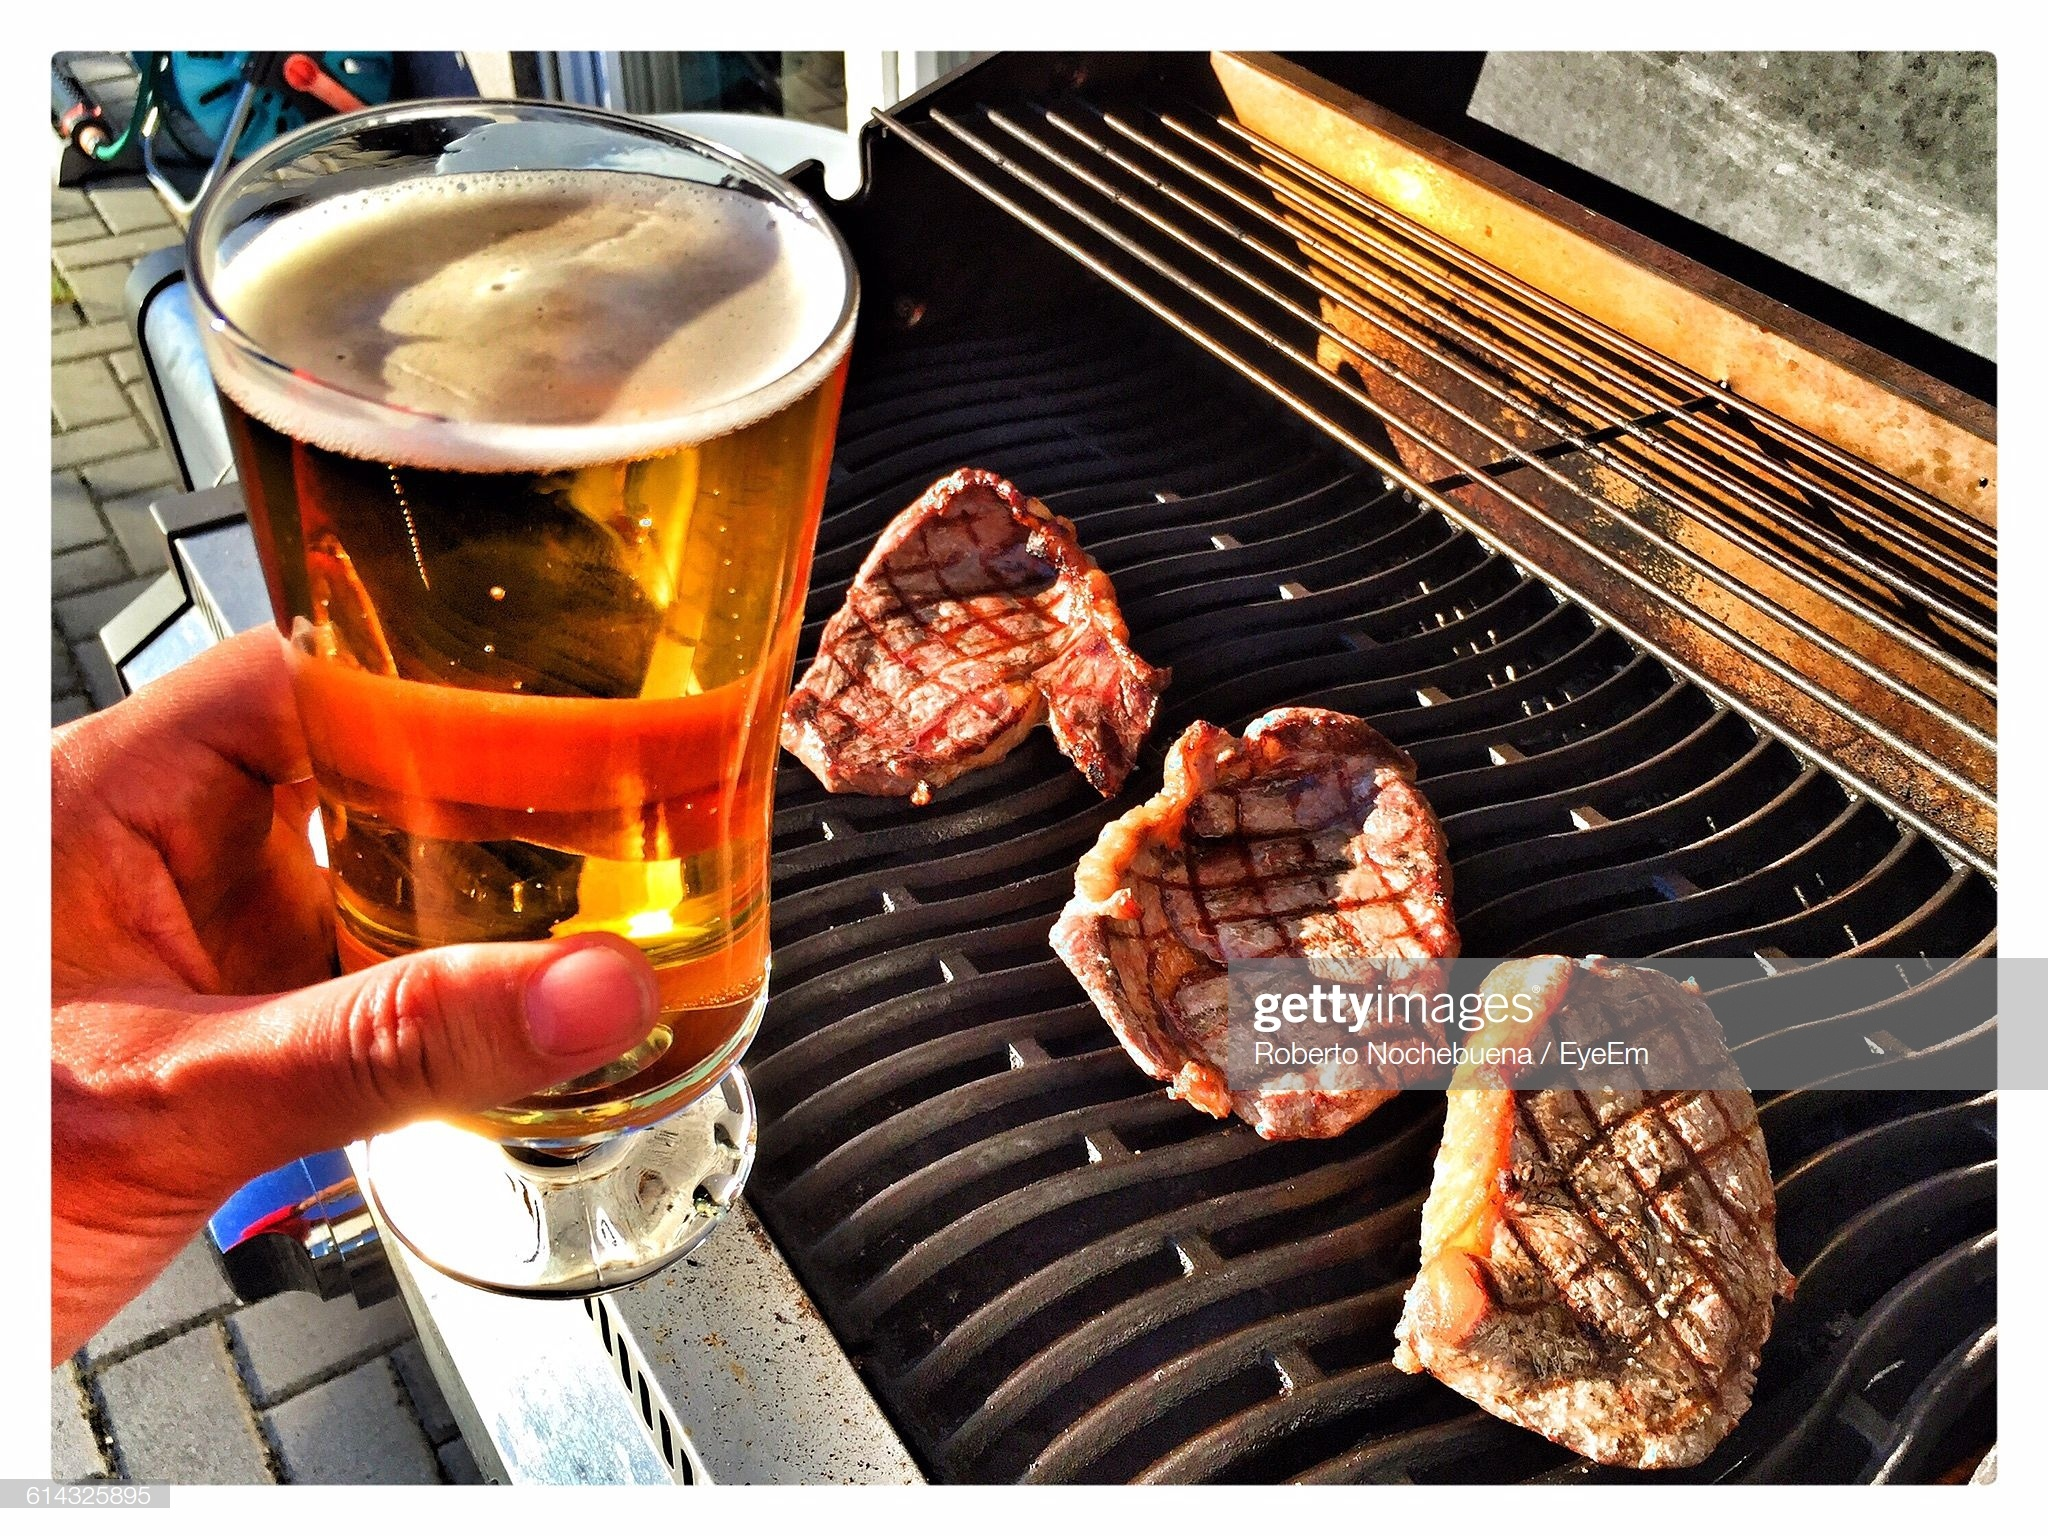glassBeer: (182, 110, 843, 1258)
